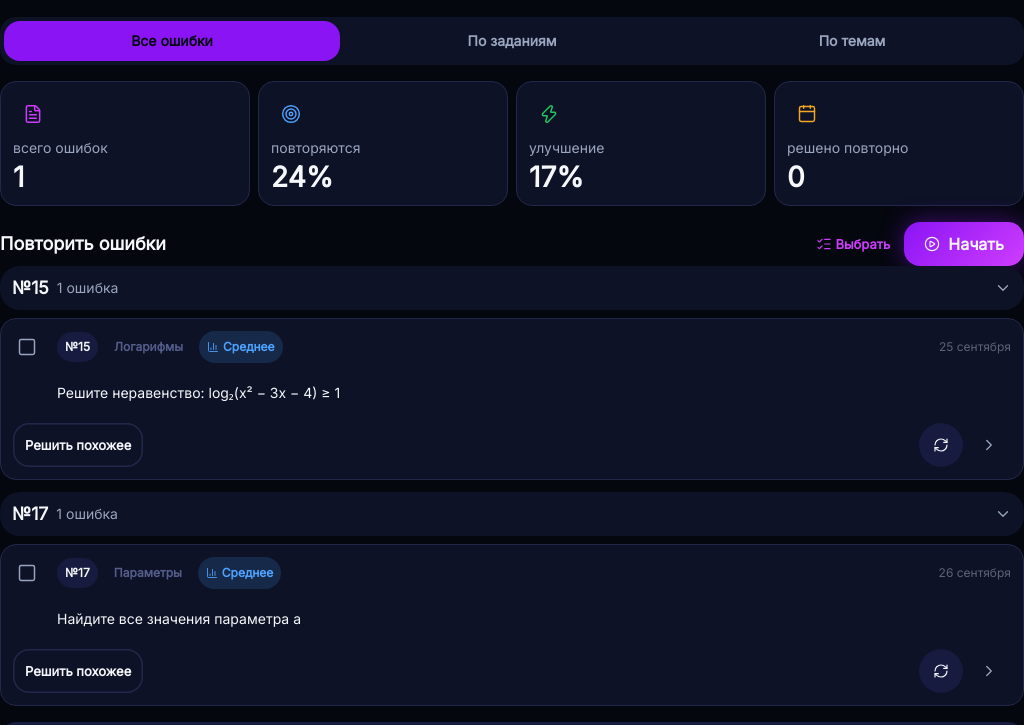
Scenario: MistakesMobile › opens the real task when a mistake is tapped
This screenshot has width=1024, height=725.
Click the button "Решите неравенство: log₂(x² − 3x − 4) ≥ 1" at (199, 392), box [13,371,1011,415]
(page scrolled)
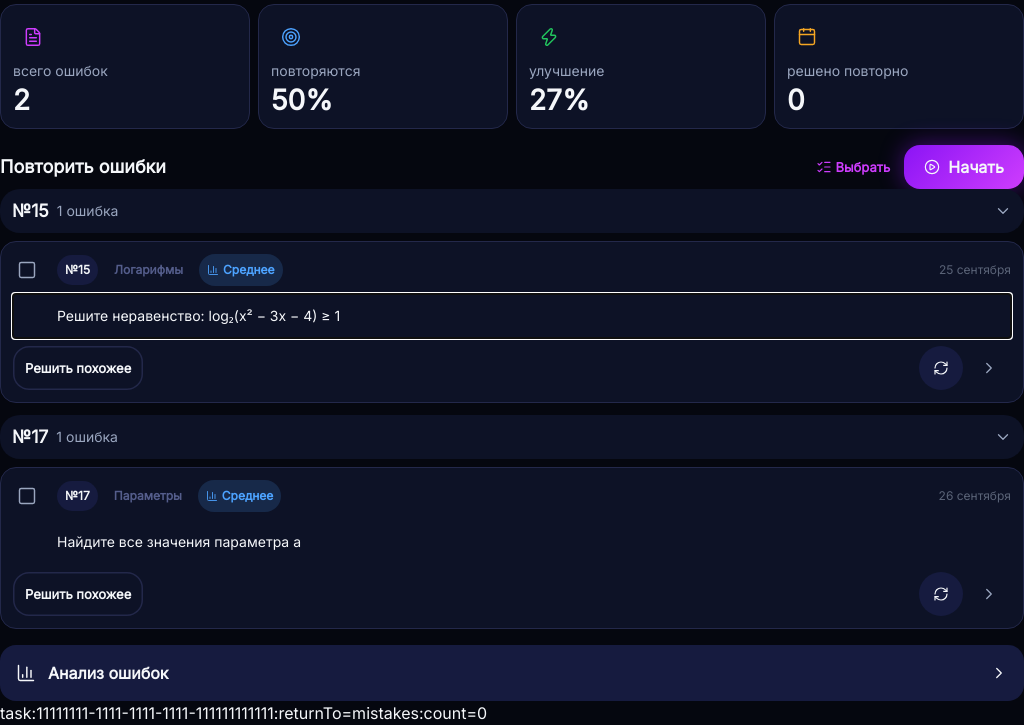
Result: the text with test id "overlay" shows "task" at [0,703,36,723]
